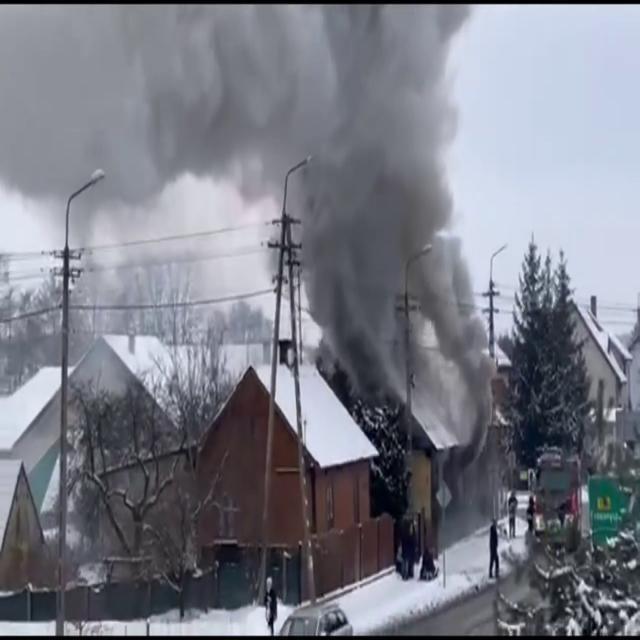Smoke: (1, 4, 502, 432)
